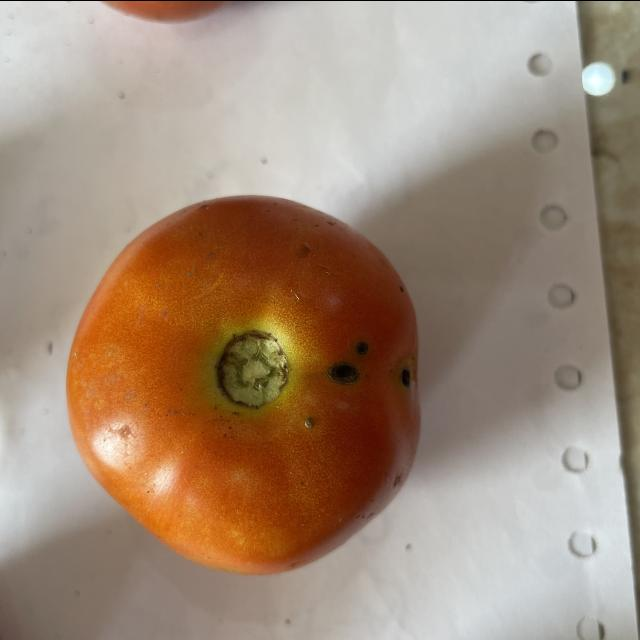fruitworm_bore: (314, 338, 422, 408)
